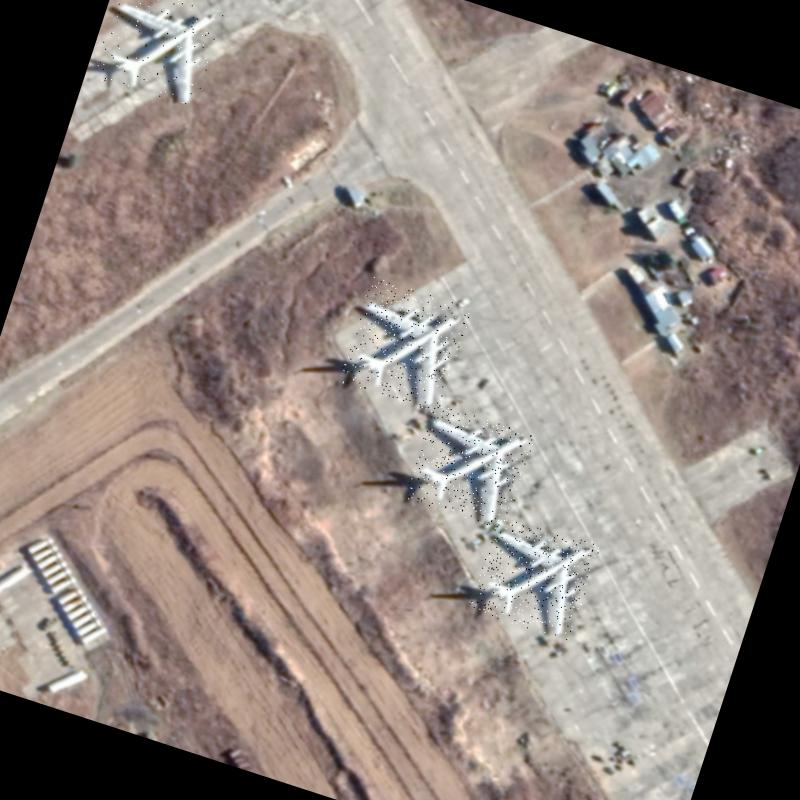A17: (338, 276, 472, 414), (468, 513, 600, 642), (404, 403, 536, 531), (90, 0, 225, 111)
